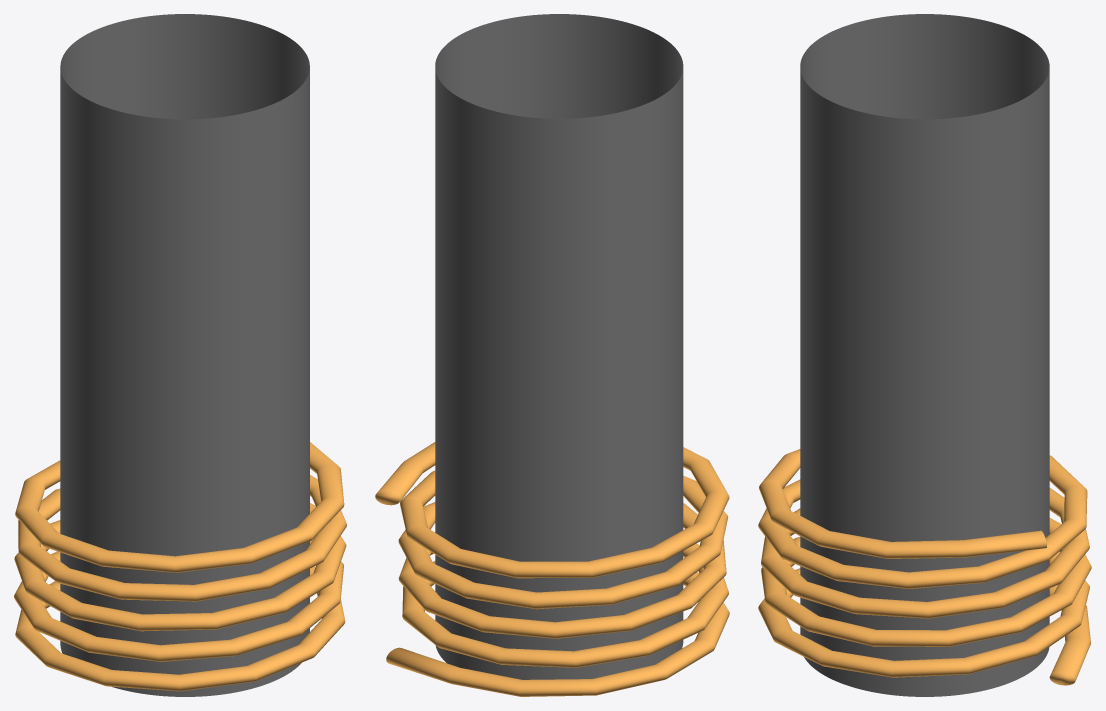
The model's file is Load coil 2.fbx.
The picture shows the model from 3 angles, left to right: view 1: azimuth 30°, elevation 25°; view 2: azimuth 150°, elevation 25°; view 3: azimuth 270°, elevation 25°; orthographic projection.
Parts seen in each view (by area): view 1: Cylinder.012, Cylinder.011; view 2: Cylinder.012, Cylinder.011; view 3: Cylinder.012, Cylinder.011.
Part boxes in pixels (x1=…): Cylinder.012: x1=60, y1=14, x2=309, y2=696; Cylinder.011: x1=14, y1=442, x2=346, y2=691; Cylinder.012: x1=435, y1=14, x2=683, y2=679; Cylinder.011: x1=375, y1=442, x2=729, y2=696; Cylinder.012: x1=800, y1=14, x2=1049, y2=696; Cylinder.011: x1=758, y1=449, x2=1091, y2=685.
Size of the model in its own units: 38.81 by 74.14 by 38.8.
